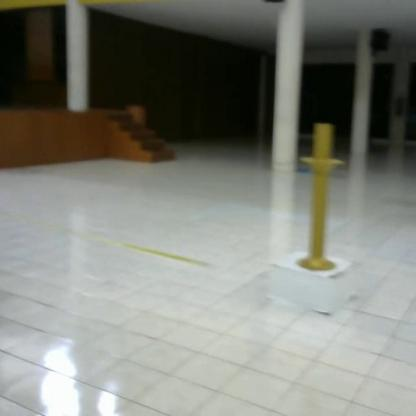pole: (294, 117, 351, 274)
